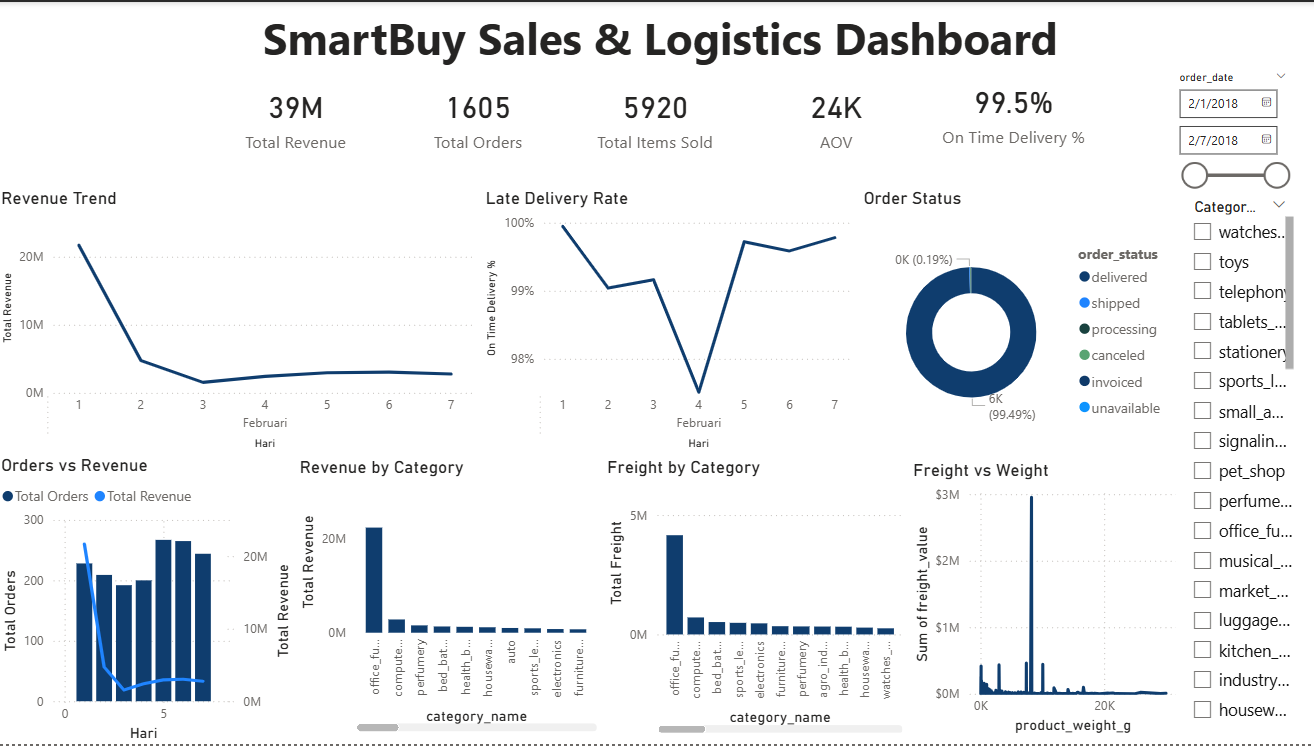

This screenshot's page, from the dashboard's own definition file:
{"tool":"powerbi","page":{"name":"Halaman 1","canvas":[1280,720],"ordinal":0},"visuals":[{"type":"textbox","box":[9.9,0,1268.9,84.5],"z":0},{"type":"card","fields":{"Values":["Master Table.Total Revenue"]},"box":[198.8,61.3,182.2,99.4],"z":1000},{"type":"card","fields":{"Values":["Master Table.AOV"]},"box":[725.5,61.3,180.6,99.4],"z":2000},{"type":"card","fields":{"Values":["Master Table.Total Orders"]},"box":[381,61.3,172.3,99.4],"z":3000},{"type":"card","fields":{"Values":["Master Table.Total Items Sold"]},"box":[553.3,61.3,172.3,99.4],"z":4000},{"type":"lineChart","title":"Revenue Trend","fields":{"Category":["Master Table.order_date.Variasi.Hierarki Tanggal.Bulan","Master Table.order_date.Variasi.Hierarki Tanggal.Hari"],"Y":["Master Table.Total Revenue"]},"box":[0,180.6,470.4,258.4],"z":5000},{"type":"card","fields":{"Values":["Master Table.Late Delivery Rate %"]},"box":[906.1,53,160.7,107.7],"z":6000},{"type":"donutChart","title":"Order Status","fields":{"Category":["Master Table.order_status"],"Y":["Master Table.Count of order_id"]},"box":[836.5,180.6,313.1,260.1],"z":7000},{"type":"slicer","fields":{"Values":["Master Table.order_date"]},"box":[1134.7,61.3,129.2,124.2],"z":8000},{"type":"slicer","fields":{"Values":["Master Table.category_name"]},"box":[1149.6,185.5,114.3,523.4],"z":9000},{"type":"lineClusteredColumnComboChart","title":"Orders vs Revenue","fields":{"Category":["Master Table.order_date.Variasi.Hierarki Tanggal.Hari"],"Y":["Master Table.Total Orders"],"Y2":["Master Table.Total Revenue"]},"box":[0,439,289.9,281.6],"z":10000},{"type":"clusteredColumnChart","title":"Revenue by Category","fields":{"Category":["Master Table.category_name"],"Y":["Master Table.Total Revenue"]},"box":[289.9,440.6,298.2,271.7],"z":11000},{"type":"clusteredColumnChart","title":"Freight by Category","fields":{"Category":["Master Table.category_name"],"Y":["Master Table.Total Freight"]},"box":[588.1,440.6,296.5,273.3],"z":12000},{"type":"lineChart","title":"Freight vs Weight","fields":{"Y":["Sum(Master Table.freight_value)"],"Category":["Master Table.smartbuy_product.product_weight_g"]},"box":[884.6,443.9,265,270],"z":13000},{"type":"lineChart","title":"Late Delivery Rate","fields":{"Category":["Master Table.order_date.Variasi.Hierarki Tanggal.Bulan","Master Table.order_date.Variasi.Hierarki Tanggal.Hari"],"Y":["Master Table.Late Delivery Rate %"]},"box":[470.4,180.6,366.1,258.4],"z":14000}]}

Visuals, with their boxes in screenshot pixels (x1, y1, x2, y2), scaled from the page's 1280x720 canvas onto the 1314x746 screenshot:
textbox: rect(10, 0, 1313, 88)
card - Master Table.Total Revenue: rect(204, 64, 391, 167)
card - Master Table.AOV: rect(745, 64, 930, 167)
card - Master Table.Total Orders: rect(391, 64, 568, 167)
card - Master Table.Total Items Sold: rect(568, 64, 745, 167)
"Revenue Trend" lineChart: rect(0, 187, 483, 455)
card - Master Table.Late Delivery Rate %: rect(930, 55, 1095, 167)
"Order Status" donutChart: rect(859, 187, 1180, 457)
slicer - Master Table.order_date: rect(1165, 64, 1297, 192)
slicer - Master Table.category_name: rect(1180, 192, 1297, 734)
"Orders vs Revenue" lineClusteredColumnComboChart: rect(0, 455, 298, 745)
"Revenue by Category" clusteredColumnChart: rect(298, 457, 604, 738)
"Freight by Category" clusteredColumnChart: rect(604, 457, 908, 740)
"Freight vs Weight" lineChart: rect(908, 460, 1180, 740)
"Late Delivery Rate" lineChart: rect(483, 187, 859, 455)
